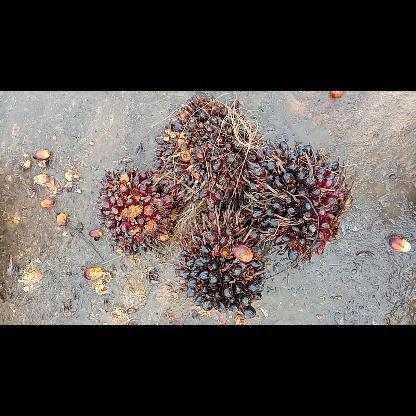TBS abnormal: (242, 140, 356, 264), (174, 207, 270, 320)
TBS masak: (150, 92, 268, 209), (95, 163, 190, 259)
